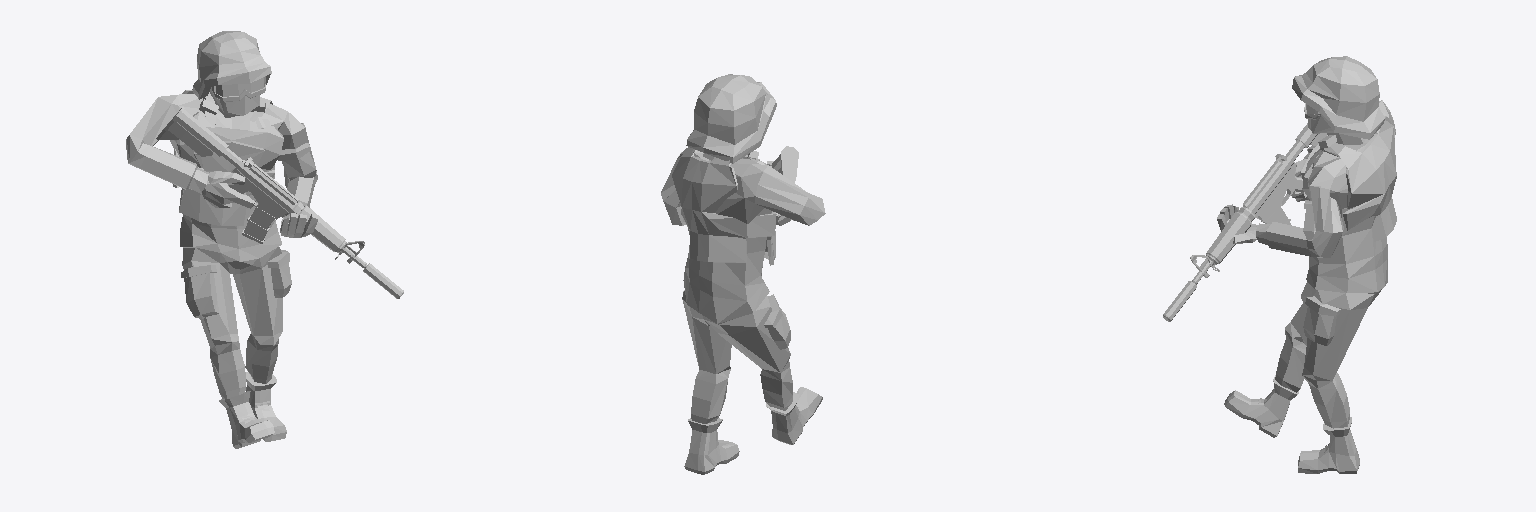
Rendered from soldier4.obj.
The picture shows the model from 3 angles: view 1: azimuth 30°, elevation 25°; view 2: azimuth 150°, elevation 25°; view 3: azimuth 270°, elevation 25°; orthographic projection.
Parts seen in each view (by area): view 1: Soldat_Cylinder.001, M4_Cube.001, M4_Amo_Cube.007; view 2: Soldat_Cylinder.001, M4_Cube.001; view 3: Soldat_Cylinder.001, M4_Cube.001.
Boxes of the visible parts, x1,y1,x2,y2 form: Soldat_Cylinder.001: [126, 31, 318, 448]; M4_Cube.001: [156, 107, 403, 298]; M4_Amo_Cube.007: [242, 208, 274, 243]; Soldat_Cylinder.001: [661, 74, 825, 474]; M4_Cube.001: [767, 146, 798, 222]; Soldat_Cylinder.001: [1217, 56, 1396, 473]; M4_Cube.001: [1163, 123, 1326, 321].
Bounding box in the file's own units: 15.5 × 31.93 × 17.11.